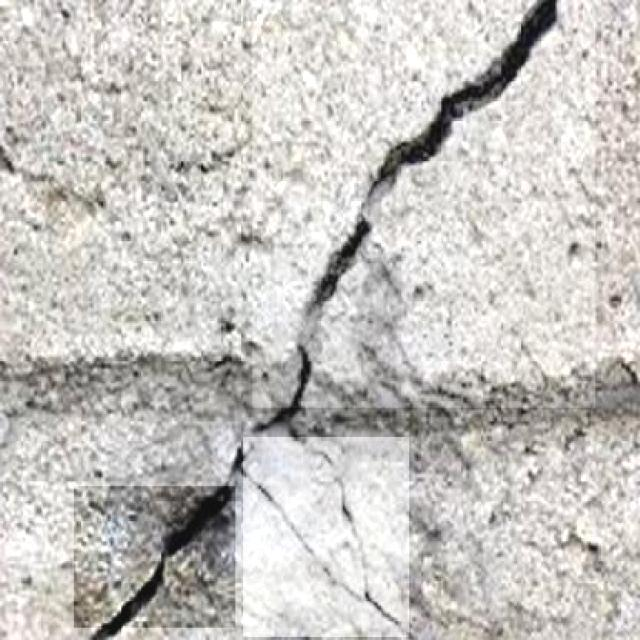crack: (92, 0, 586, 640)
